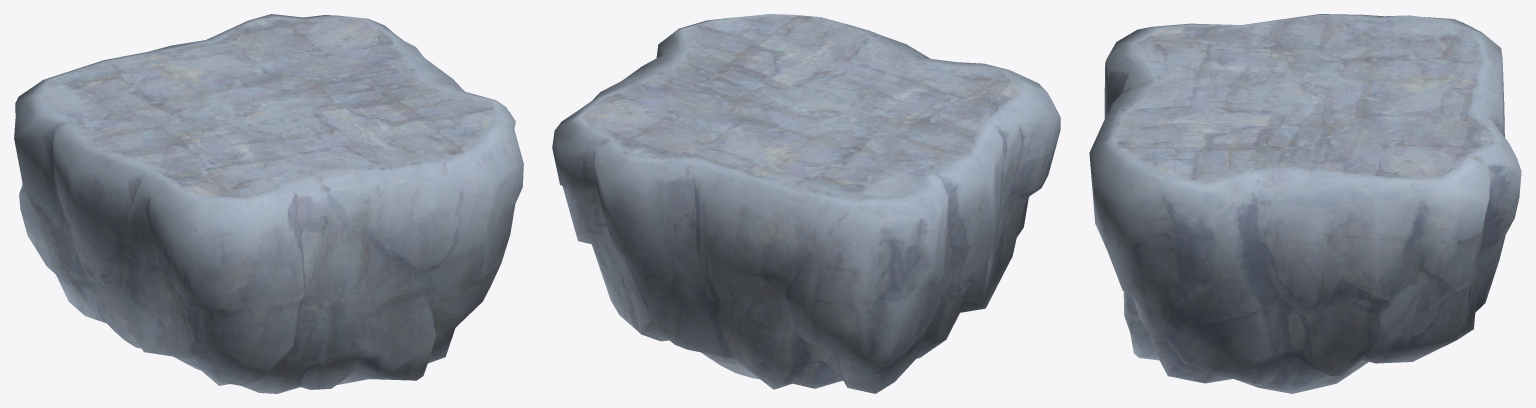
File: Homeworld_Exterior_Common_Rockery_08.fbx
The picture shows the model from 3 angles, left to right: view 1: azimuth 30°, elevation 25°; view 2: azimuth 150°, elevation 25°; view 3: azimuth 270°, elevation 25°; orthographic projection.
Visible parts, largest first — view 1: Homeworld_Exterior_Common_Rockery_08_Lod0; view 2: Homeworld_Exterior_Common_Rockery_08_Lod0; view 3: Homeworld_Exterior_Common_Rockery_08_Lod0.
Part boxes in pixels (x1=…): Homeworld_Exterior_Common_Rockery_08_Lod0: x1=14, y1=14, x2=523, y2=393; Homeworld_Exterior_Common_Rockery_08_Lod0: x1=552, y1=14, x2=1060, y2=393; Homeworld_Exterior_Common_Rockery_08_Lod0: x1=1089, y1=14, x2=1521, y2=393.
Size of what is drawn, in the model's own units: 8.34 by 5.57 by 8.04.
Materials: 1 (1 with a texture image).
